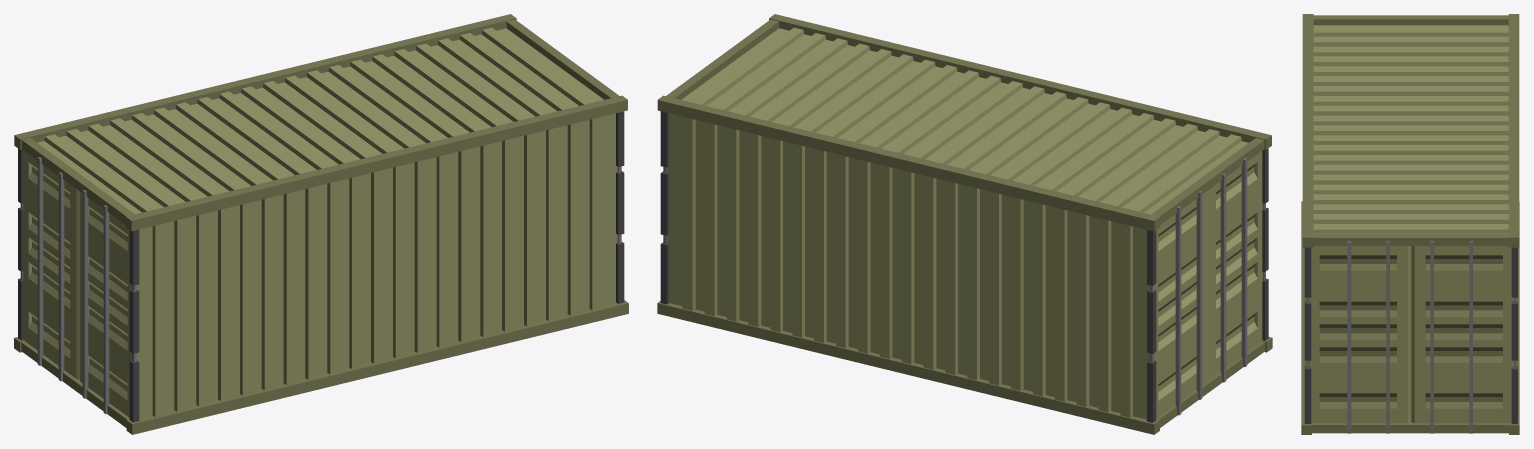
The model's file is container.glb.
3 renders of one model, left to right at view 1: azimuth 30°, elevation 25°; view 2: azimuth 150°, elevation 25°; view 3: azimuth 270°, elevation 25°, orthographic. The views are drawn at different scales.
Visible parts, largest first — view 1: Conainer_3752fc, Conainer_4ea407, Conainer_a42136, Conainer_96b139; view 2: Conainer_3752fc, Conainer_4ea407, Conainer_a42136, Conainer_96b139; view 3: Conainer_3752fc, Conainer_4ea407, Conainer_a42136, Conainer_96b139.
Boxes of the visible parts, x1,y1,x2,y2 form: Conainer_3752fc: [23, 27, 617, 418]; Conainer_4ea407: [14, 14, 628, 434]; Conainer_a42136: [20, 157, 621, 413]; Conainer_96b139: [18, 111, 624, 422]; Conainer_3752fc: [667, 27, 1262, 419]; Conainer_4ea407: [657, 14, 1272, 434]; Conainer_a42136: [663, 158, 1265, 415]; Conainer_96b139: [660, 111, 1268, 422]; Conainer_3752fc: [1304, 25, 1518, 423]; Conainer_4ea407: [1301, 14, 1519, 434]; Conainer_a42136: [1307, 241, 1516, 433]; Conainer_96b139: [1304, 247, 1517, 423].
Bounding box in the file's own units: 12.08 × 4.95 × 4.97.
